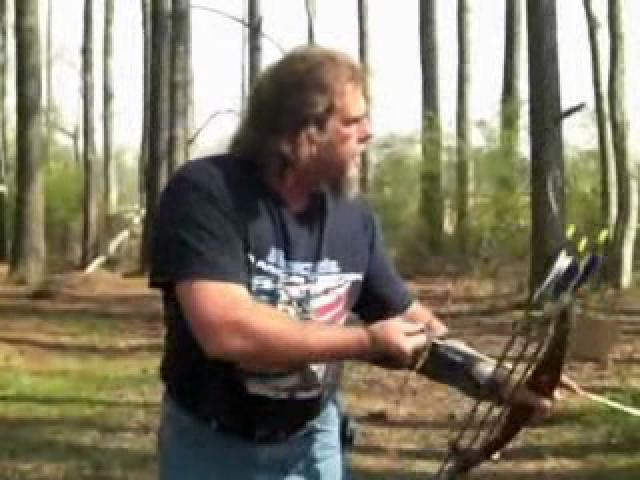I: (147, 38, 599, 480)
